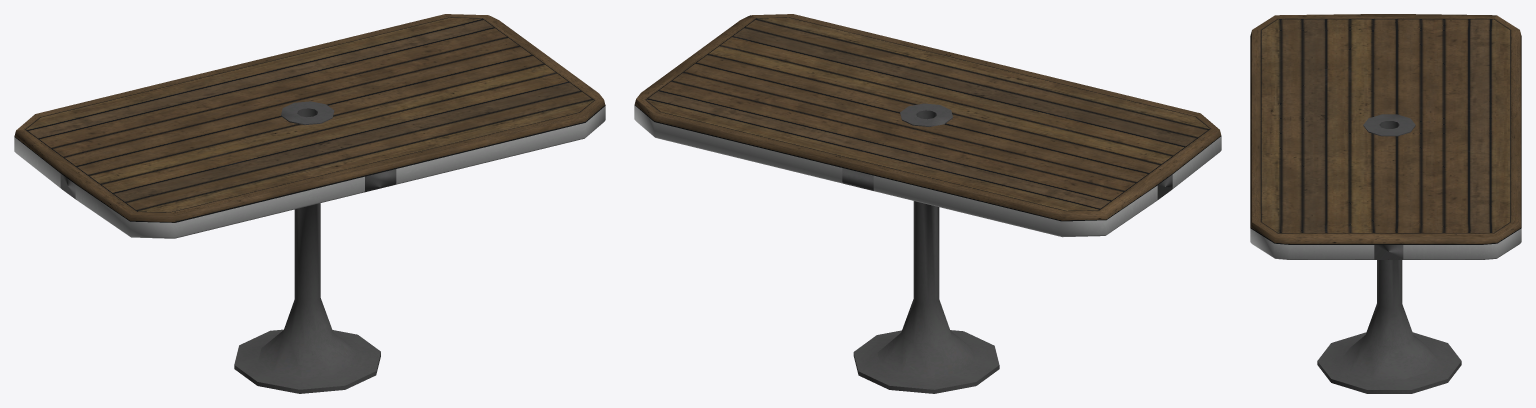
File: p6_hijacked_table_lod2.glb
3 renders of one model, left to right at view 1: azimuth 30°, elevation 25°; view 2: azimuth 150°, elevation 25°; view 3: azimuth 270°, elevation 25°, orthographic. The views are drawn at different scales.
Visible parts, largest first — view 1: surf2, surf1, surf0; view 2: surf2, surf1, surf0; view 3: surf2, surf1, surf0.
Part boxes in pixels (x1=…): surf2: x1=14, y1=14, x2=605, y2=222; surf1: x1=60, y1=101, x2=396, y2=393; surf0: x1=14, y1=106, x2=605, y2=238; surf2: x1=634, y1=14, x2=1221, y2=221; surf1: x1=842, y1=103, x2=1172, y2=393; surf0: x1=634, y1=105, x2=1221, y2=237; surf2: x1=1250, y1=14, x2=1521, y2=244; surf1: x1=1317, y1=114, x2=1461, y2=393; surf0: x1=1250, y1=228, x2=1521, y2=259.
Size of the model in its own units: 65.95 by 32.72 by 33.49.
